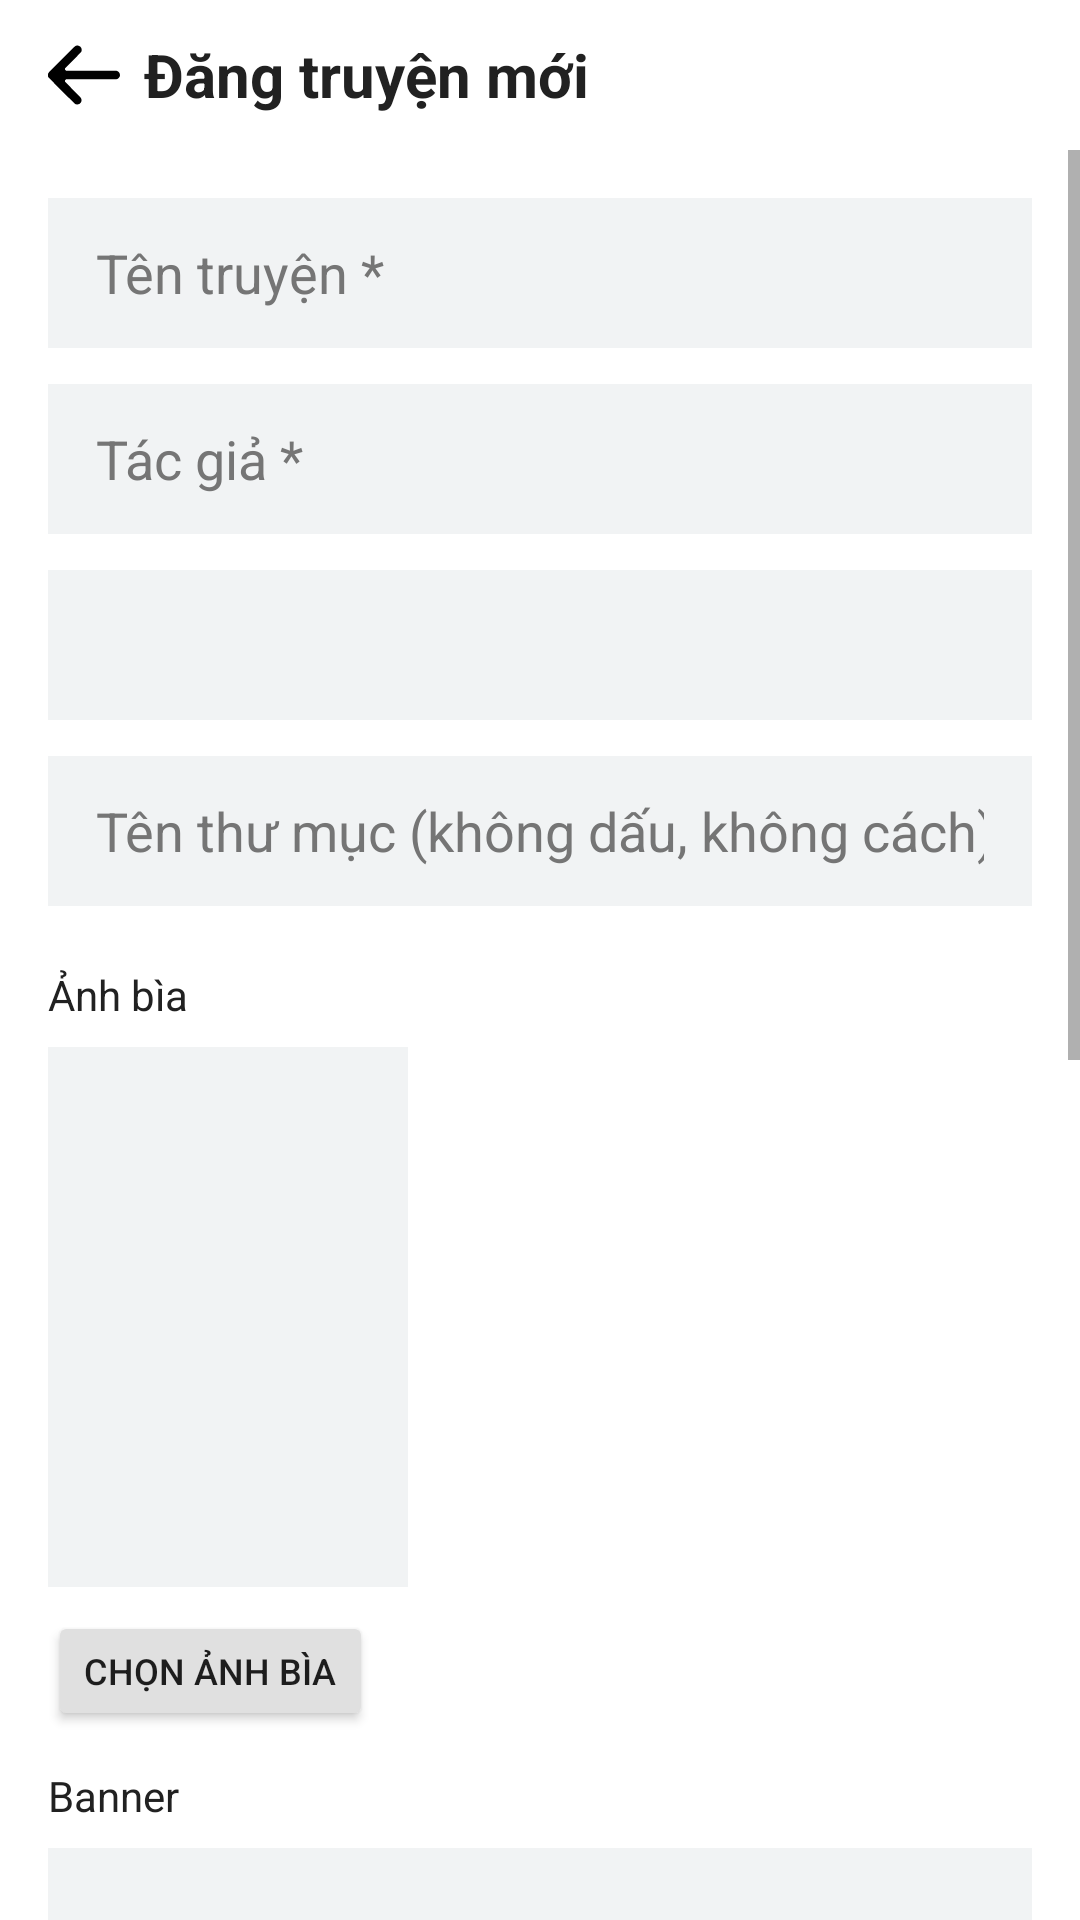

Locate icon controls on the screen. Image size 1080w x 1920h, boxes as [x1,y1,x2,y2].
Back: [48,45,120,105]
